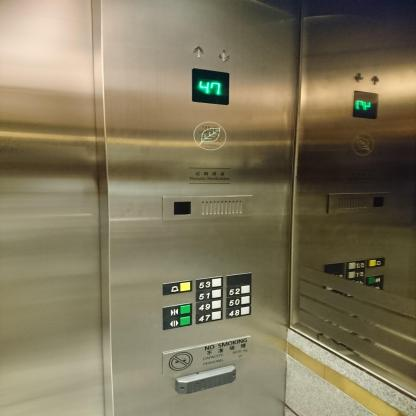47: (195, 309, 223, 324)
48: (226, 305, 252, 319)
49: (196, 298, 224, 313)
50: (226, 294, 252, 308)
51: (195, 287, 224, 302)
52: (226, 284, 252, 298)
53: (195, 274, 223, 290)
alarm: (162, 279, 192, 295), (367, 257, 386, 268)
close: (162, 301, 192, 319), (366, 274, 384, 285)
led: (191, 66, 231, 105), (352, 89, 378, 120)
open: (162, 315, 193, 330)
unknown: (346, 259, 366, 269), (346, 269, 366, 279)
